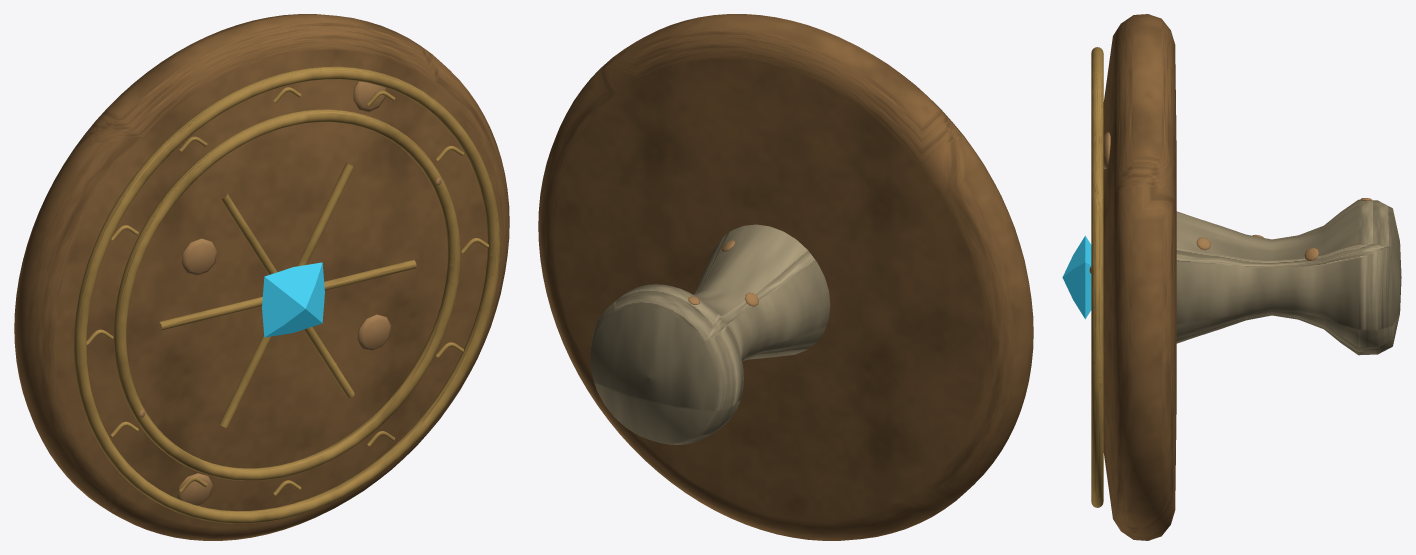
Rendered from ceremonial-seal.glb.
3 views of the same model, side by side, from view 1: azimuth 30°, elevation 25°; view 2: azimuth 150°, elevation 25°; view 3: azimuth 270°, elevation 25° (orthographic). The views are drawn at different scales.
Parts seen in each view (by area): view 1: bronze / cast bronze with patina, brass / polished brass furniture, crystal / faceted crystal, peened pin; view 2: bronze / cast bronze with patina, horn / polished horn and bone; view 3: bronze / cast bronze with patina, horn / polished horn and bone, brass / polished brass furniture, crystal / faceted crystal.
Boxes of the visible parts, box(x1,y1,x2,y2) form: bronze / cast bronze with patina: box(14, 14, 509, 540); brass / polished brass furniture: box(74, 66, 500, 523); crystal / faceted crystal: box(262, 262, 324, 337); peened pin: box(176, 81, 390, 505); bronze / cast bronze with patina: box(538, 14, 1033, 540); horn / polished horn and bone: box(590, 224, 830, 444); bronze / cast bronze with patina: box(1103, 14, 1176, 540); horn / polished horn and bone: box(1176, 199, 1401, 355); brass / polished brass furniture: box(1091, 47, 1103, 507); crystal / faceted crystal: box(1062, 235, 1091, 319).
Bounding box in the file's own units: 0.3053 × 0.3053 × 0.1963.
Materials: 5 (3 with a texture image).
